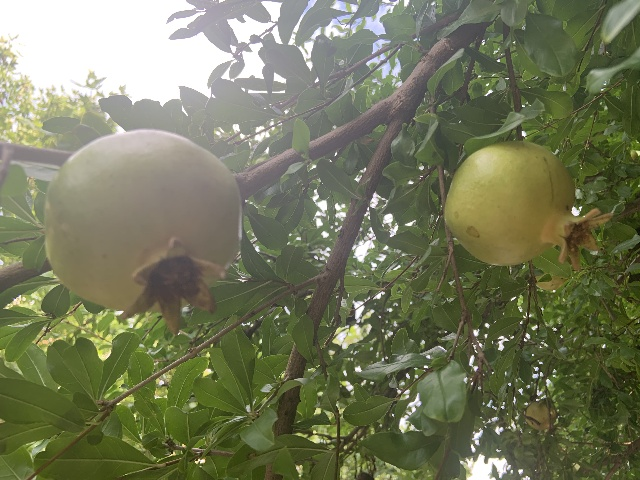mid-growth: (42, 129, 242, 339), (443, 141, 613, 274), (524, 400, 556, 431)
